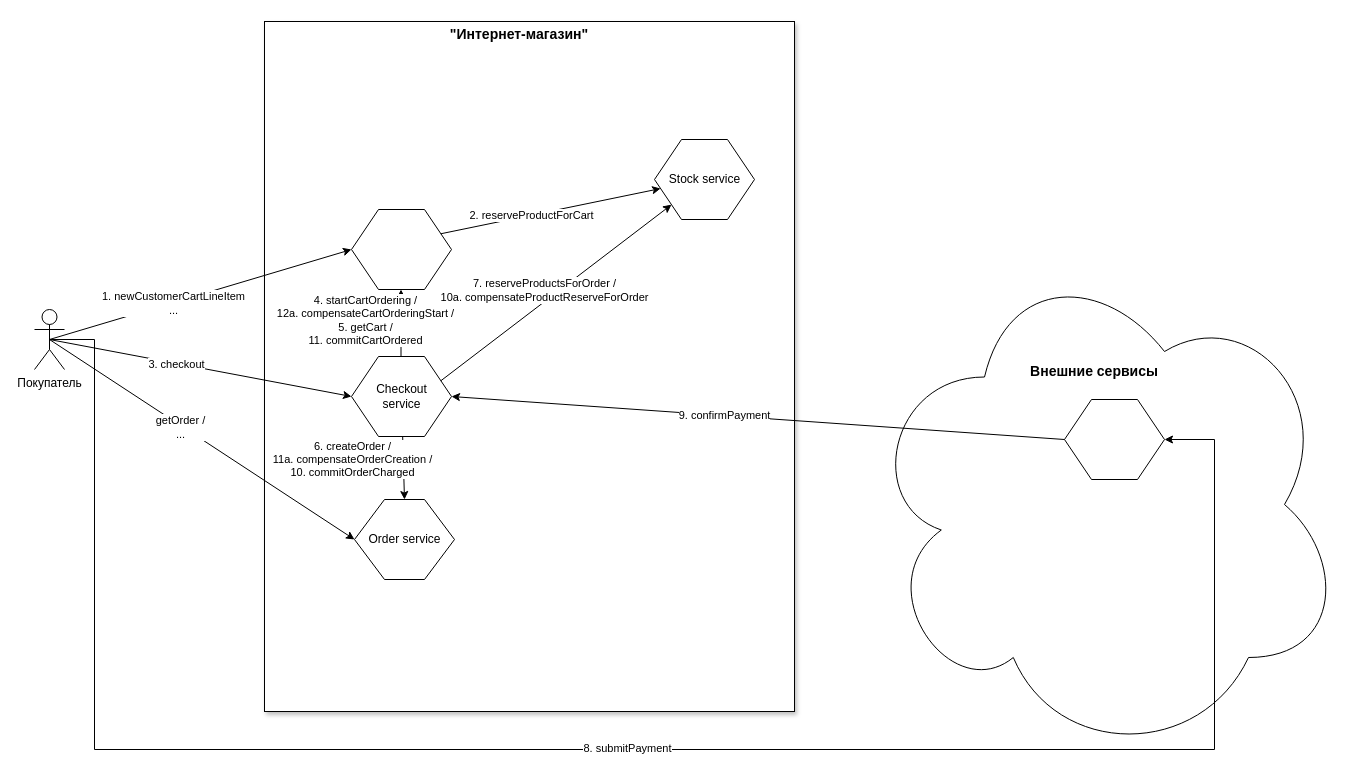
Image size: 1362x777. Some labels were removed from this diagram. Each missing label, with the centre of its shape:
Cart service: [401,249]
Payment system: [1114,439]
